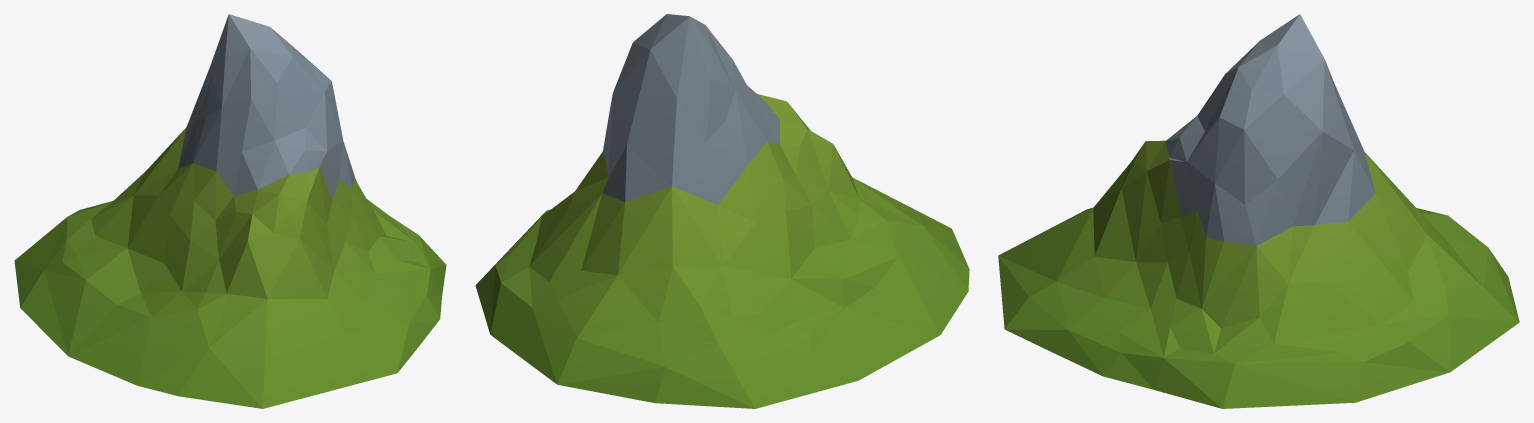
Rendered from Mountain_03.fbx.
3 renders of one model, left to right at view 1: azimuth 30°, elevation 25°; view 2: azimuth 150°, elevation 25°; view 3: azimuth 270°, elevation 25°, orthographic. The views are drawn at different scales.
Visible parts, largest first — view 1: Mountain_03; view 2: Mountain_03; view 3: Mountain_03.
Boxes of the visible parts, left/top/right/bottom form: Mountain_03: left=14, top=14, right=446, bottom=408; Mountain_03: left=475, top=14, right=969, bottom=408; Mountain_03: left=998, top=14, right=1519, bottom=408.
Size of the model in its own units: 7072 by 4825 by 7680.
